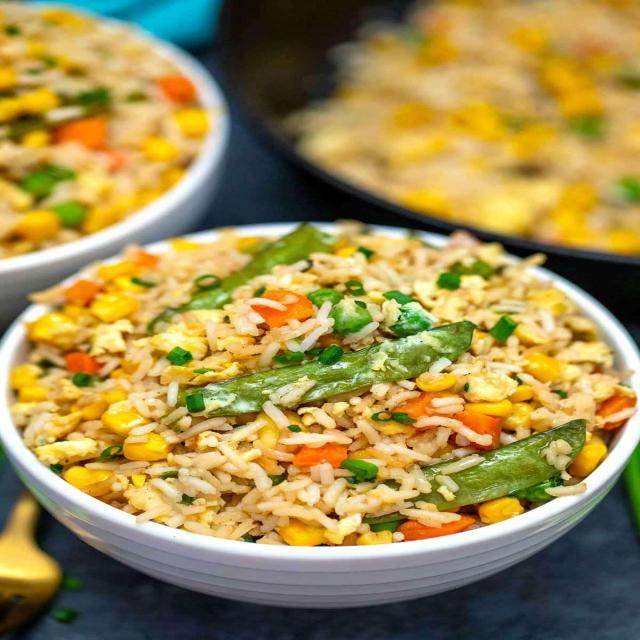Nasi Goreng: (9, 221, 634, 547)
